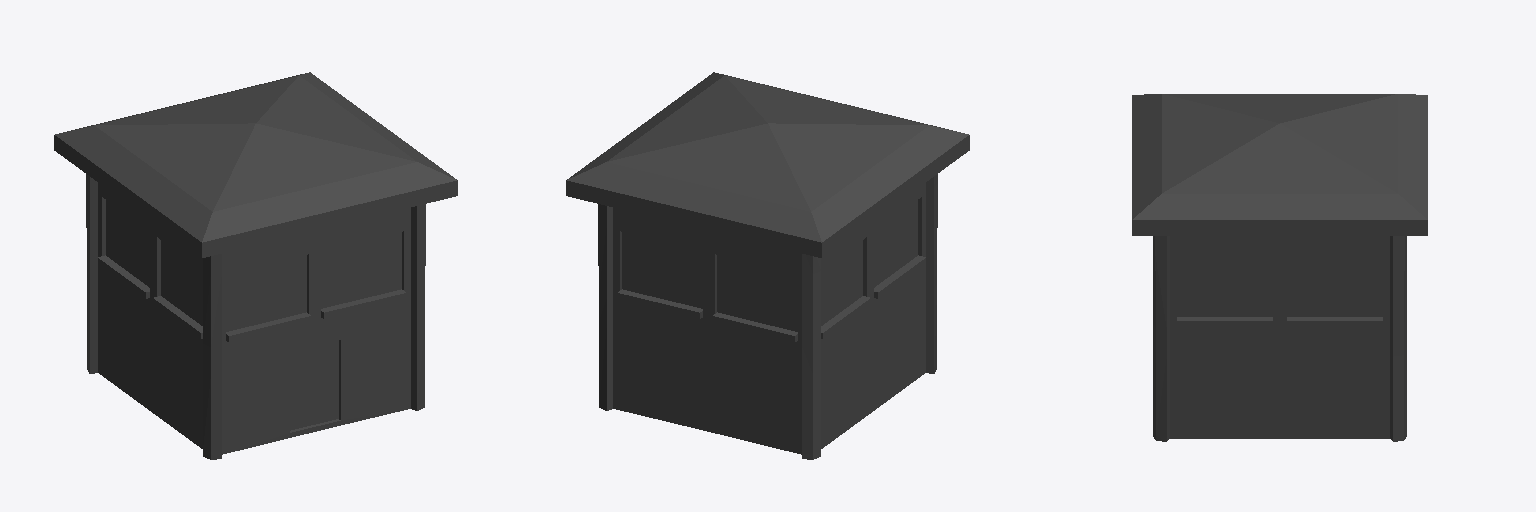
Rendered from House_Multi.obj.
3 renders of one model, left to right at view 1: azimuth 30°, elevation 25°; view 2: azimuth 150°, elevation 25°; view 3: azimuth 270°, elevation 25°, orthographic.
Visible parts, largest first — view 1: Roof, House001, Windows, Door; view 2: Roof, House001, Windows; view 3: Roof, House001, Windows.
Boxes of the visible parts, x1=… form: Roof: x1=54, y1=72, x2=457, y2=459; House001: x1=98, y1=183, x2=410, y2=454; Windows: x1=106, y1=200, x2=401, y2=331; Door: x1=290, y1=341, x2=337, y2=429; Roof: x1=566, y1=72, x2=969, y2=459; House001: x1=613, y1=183, x2=925, y2=454; Windows: x1=622, y1=200, x2=917, y2=331; Roof: x1=1132, y1=94, x2=1427, y2=441; House001: x1=1170, y1=236, x2=1389, y2=438; Windows: x1=1177, y1=259, x2=1382, y2=316.
Size of the model in its own units: 250 by 247 by 250.